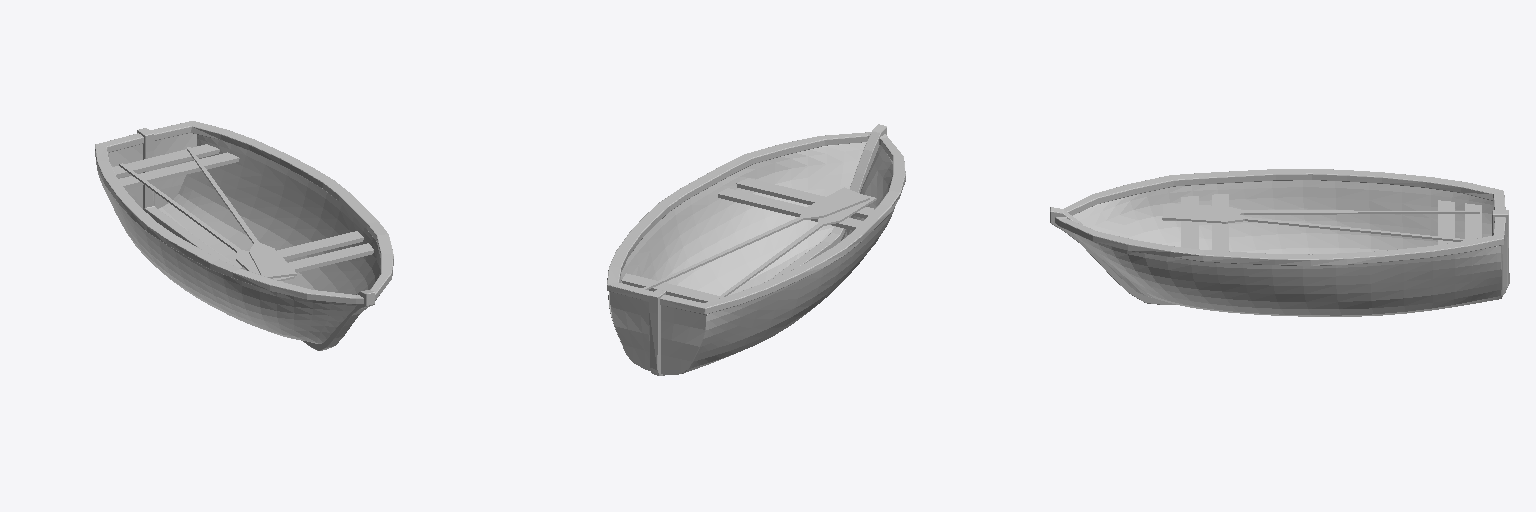
Rendered from wooden-boat.obj.
3 renders of one model, left to right at view 1: azimuth 30°, elevation 25°; view 2: azimuth 150°, elevation 25°; view 3: azimuth 270°, elevation 25°, orthographic.
Parts seen in each view (by area): view 1: boat, flipper_1, flipper_2; view 2: boat, flipper_1, flipper_2; view 3: boat, flipper_1, flipper_2.
Boxes of the visible parts, x1,y1,x2,y2 form: boat: [95, 121, 393, 350]; flipper_1: [187, 147, 296, 278]; flipper_2: [119, 163, 294, 280]; boat: [607, 124, 905, 375]; flipper_1: [642, 187, 869, 289]; flipper_2: [715, 194, 876, 299]; boat: [1050, 169, 1509, 316]; flipper_1: [1162, 203, 1469, 241]; flipper_2: [1163, 204, 1479, 220].
Size of the model in its own units: 2 by 0.9557 by 4.24.